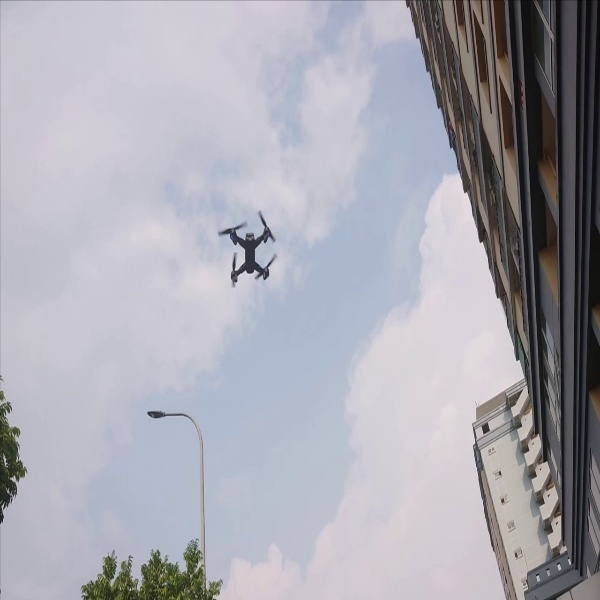drone: (214, 204, 287, 288)
